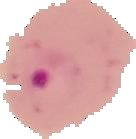parasitized: (27, 47, 85, 100)
